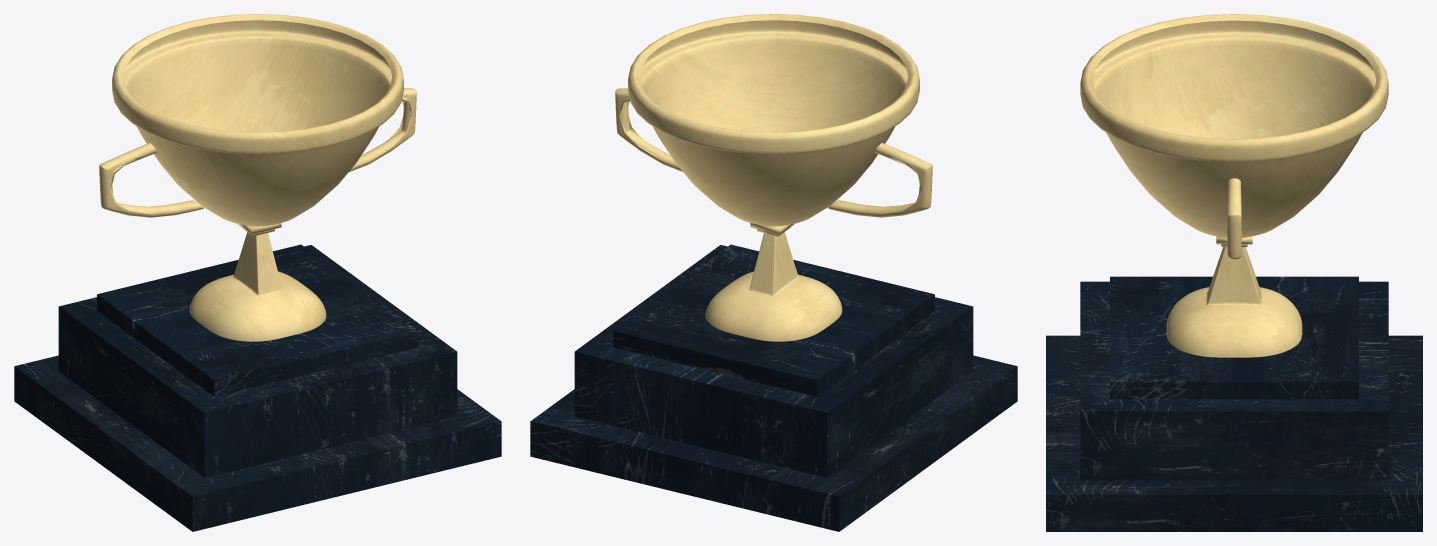
File: X_CHAMP.fbx
3 views of the same model, side by side, from view 1: azimuth 30°, elevation 25°; view 2: azimuth 150°, elevation 25°; view 3: azimuth 270°, elevation 25° (orthographic). The views are drawn at different scales.
Parts seen in each view (by area): view 1: X_CHAMP; view 2: X_CHAMP; view 3: X_CHAMP.
Part boxes in pixels (box(x1,y1,x2,y2)): X_CHAMP: box(14, 14, 501, 531); X_CHAMP: box(530, 14, 1017, 531); X_CHAMP: box(1046, 14, 1422, 531).
Bounding box in the file's own units: 40.85 × 44 × 40.
